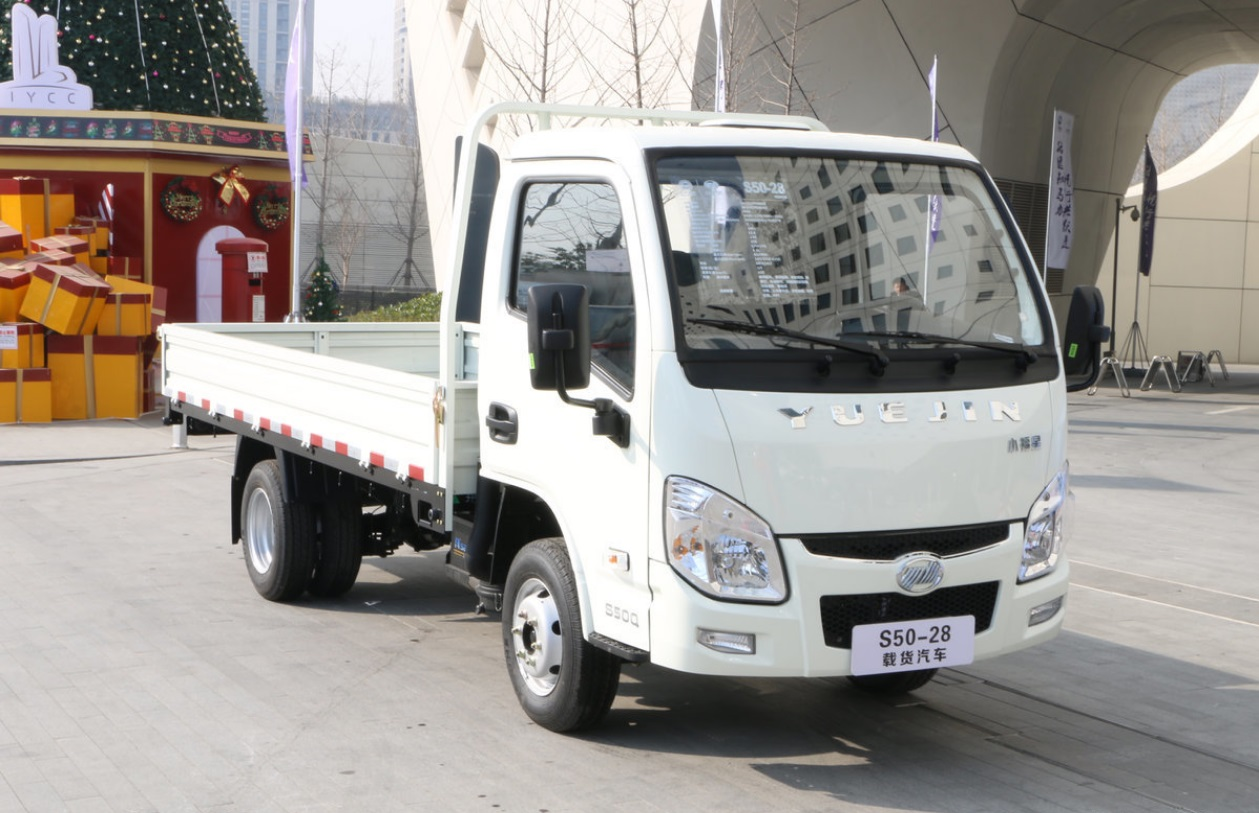truck: (154, 100, 1114, 740)
